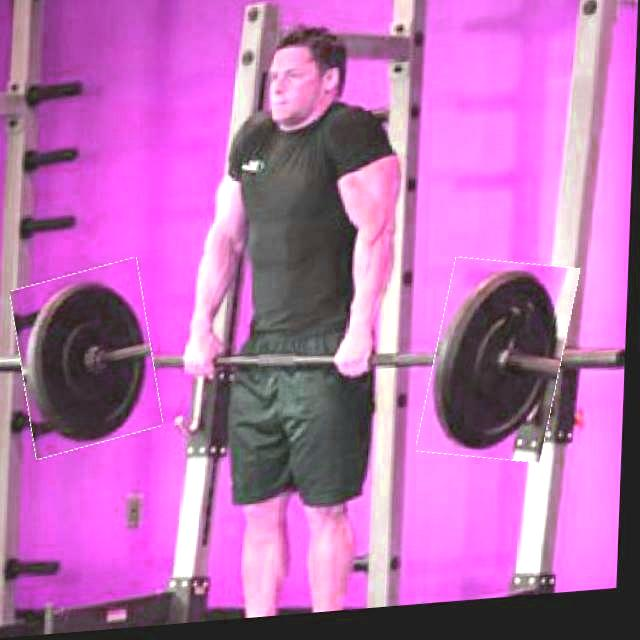barbell: (427, 262, 575, 475), (16, 265, 165, 457)
